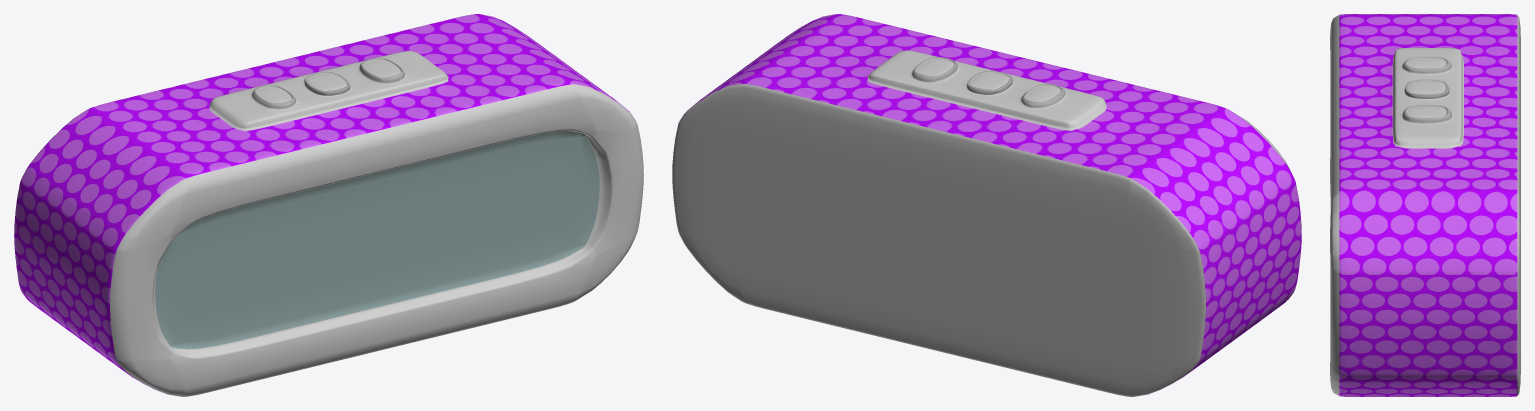
Rendered from Ragball_Timer_Model.fbx.
3 views of the same model, side by side, from view 1: azimuth 30°, elevation 25°; view 2: azimuth 150°, elevation 25°; view 3: azimuth 270°, elevation 25° (orthographic). The views are drawn at different scales.
Visible parts, largest first — view 1: pCube4; view 2: pCube4; view 3: pCube4.
Boxes of the visible parts, bbox=[...] form: pCube4: bbox=[14, 14, 643, 396]; pCube4: bbox=[672, 14, 1301, 396]; pCube4: bbox=[1330, 14, 1520, 396].
Bounding box in the file's own units: 3.02 × 1.28 × 1.
